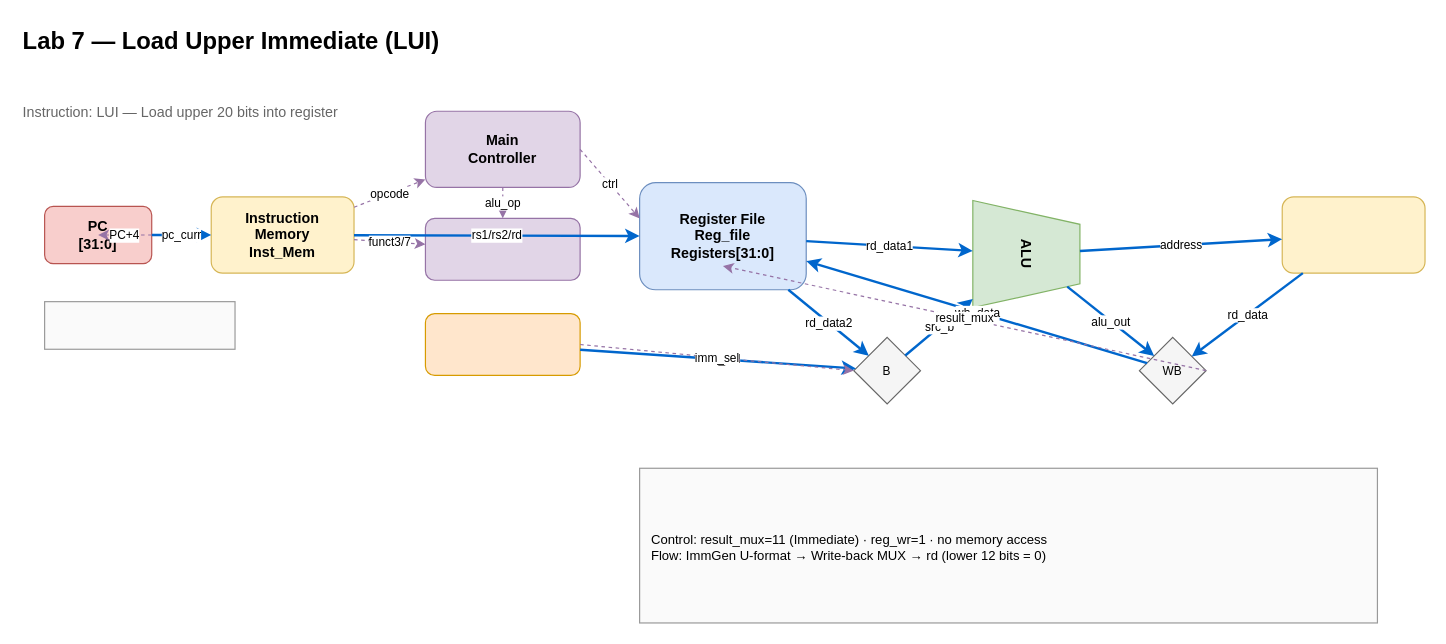
The diagram is 1446 pixels wide and 644 high, and some of its shapes have lost their labels. The centre of each missing label's shape, as x and y in pixels:
"ALU Controller" belongs at [502,248].
"Data Memory Data_Mem" belongs at [1353,234].
"ImmGen imm_gen" belongs at [502,343].
"PC ← PC + 4 (reset = 0x0)" belongs at [139,324].
